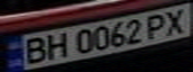0: (72, 26, 96, 54), (90, 22, 112, 52)
2: (124, 16, 148, 45)
6: (109, 19, 130, 48)
B: (15, 34, 51, 65)
H: (39, 30, 69, 61)
P: (142, 11, 172, 39)
X: (160, 6, 193, 36)
